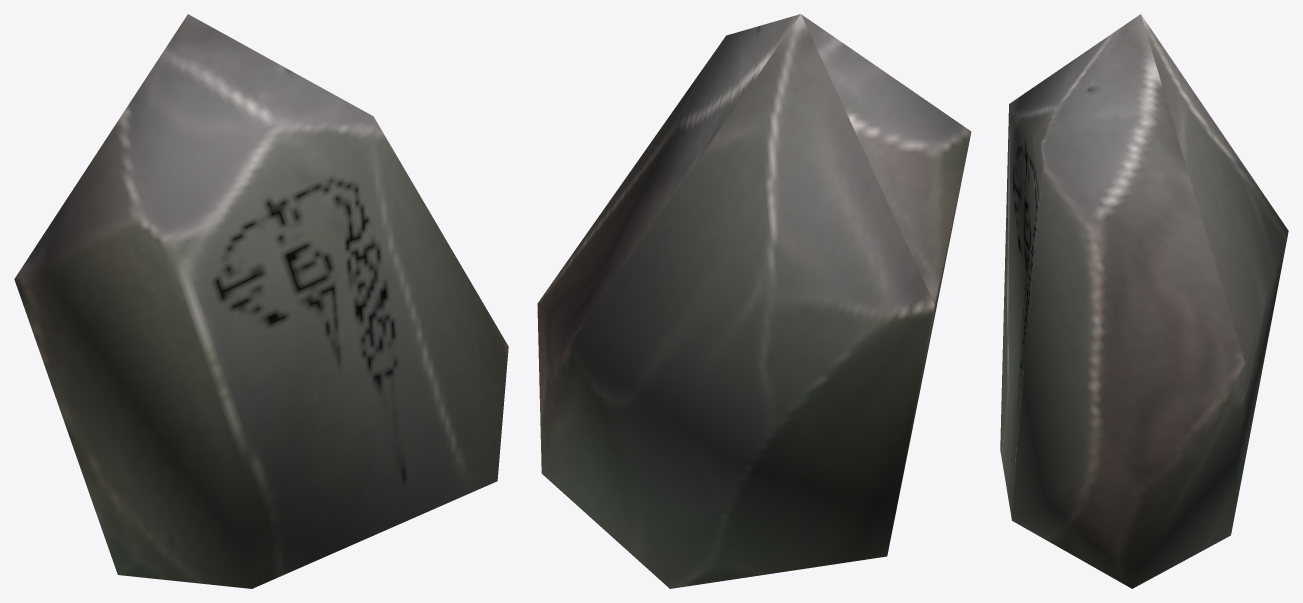
3 views of the same model, side by side, from view 1: azimuth 30°, elevation 25°; view 2: azimuth 150°, elevation 25°; view 3: azimuth 270°, elevation 25° (orthographic). The views are drawn at different scales.
Visible parts, largest first — view 1: Պ.001; view 2: Պ.001; view 3: Պ.001.
Part boxes in pixels (x1=…): Պ.001: x1=14, y1=14, x2=508, y2=588; Պ.001: x1=537, y1=14, x2=971, y2=588; Պ.001: x1=1000, y1=14, x2=1288, y2=588.
Size of the model in its own units: 82.82 by 99.43 by 53.32.
